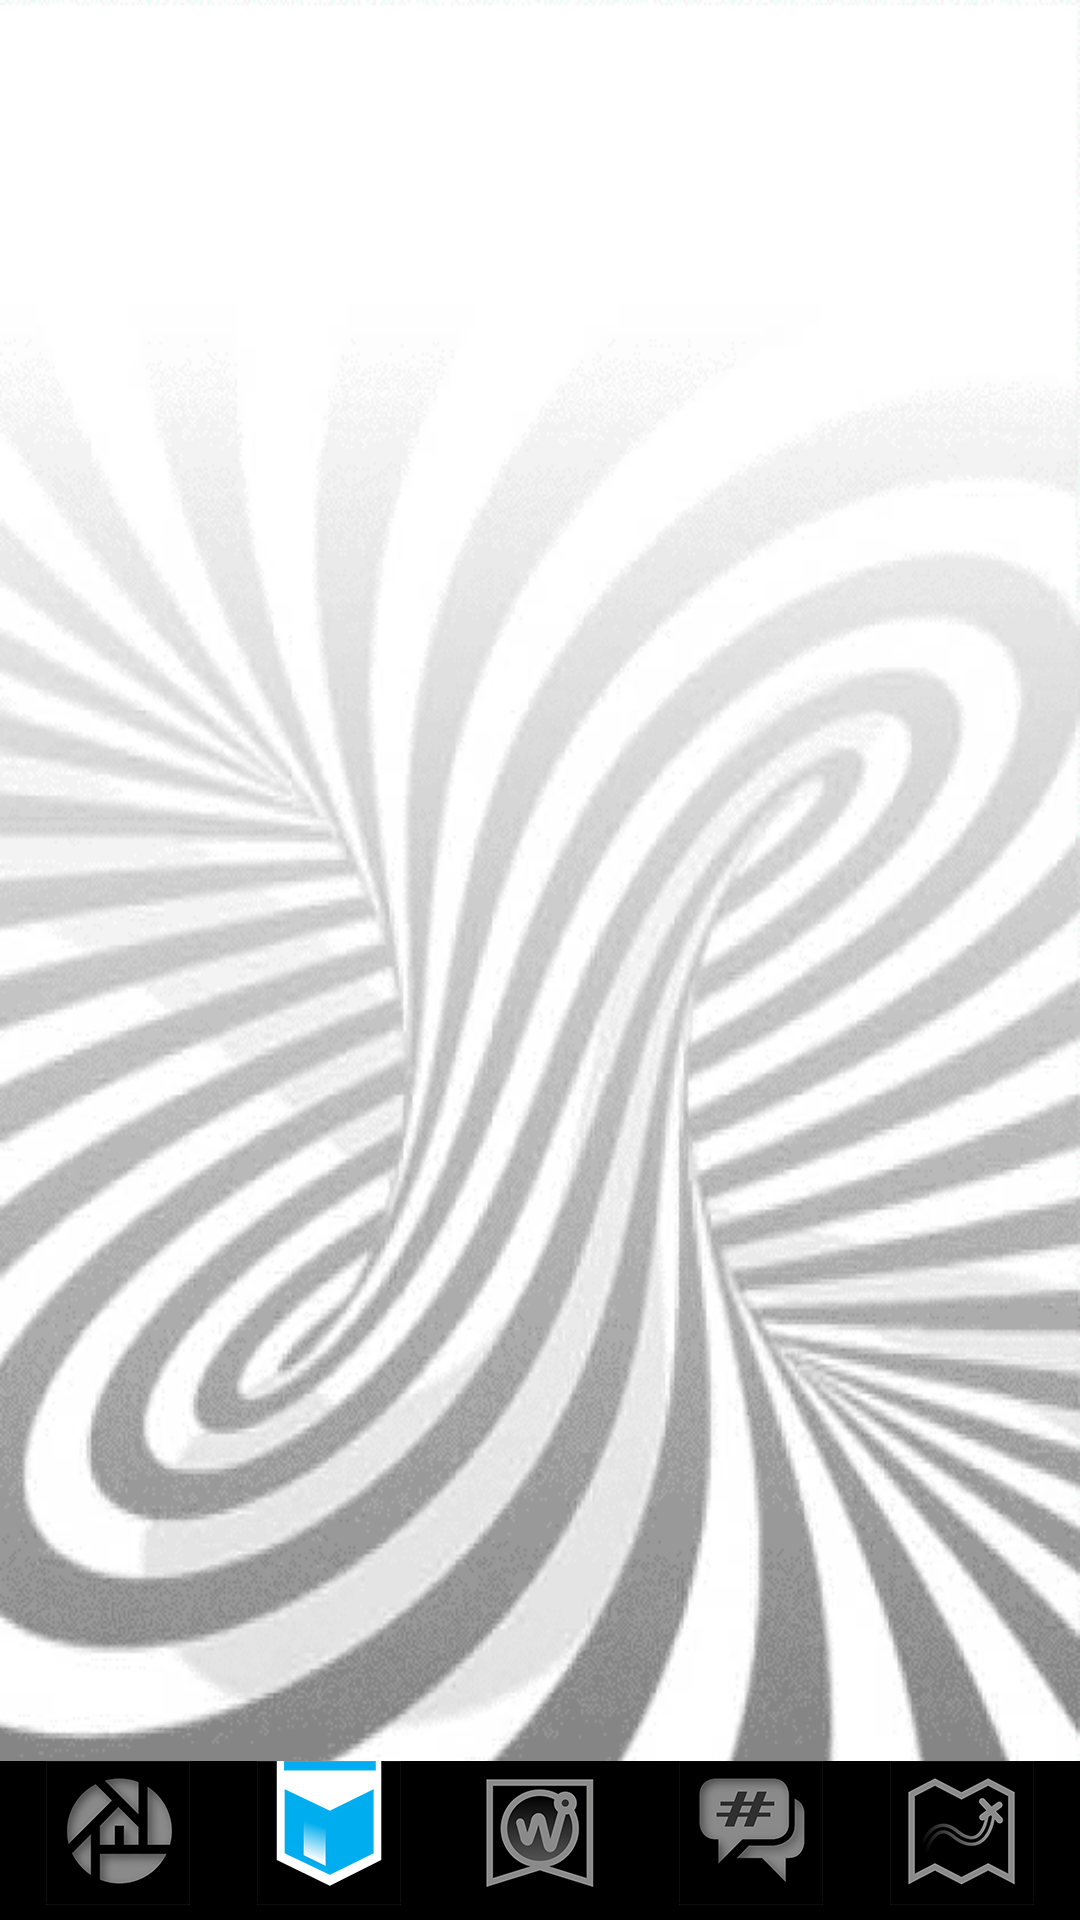

Icon bounding boxes for this 1080w x 1920h phone screenshot, format (x1, y1, x2, y2):
home: (46, 1778, 190, 1905)
map: (908, 1778, 1015, 1885)
social: (699, 1778, 805, 1882)
